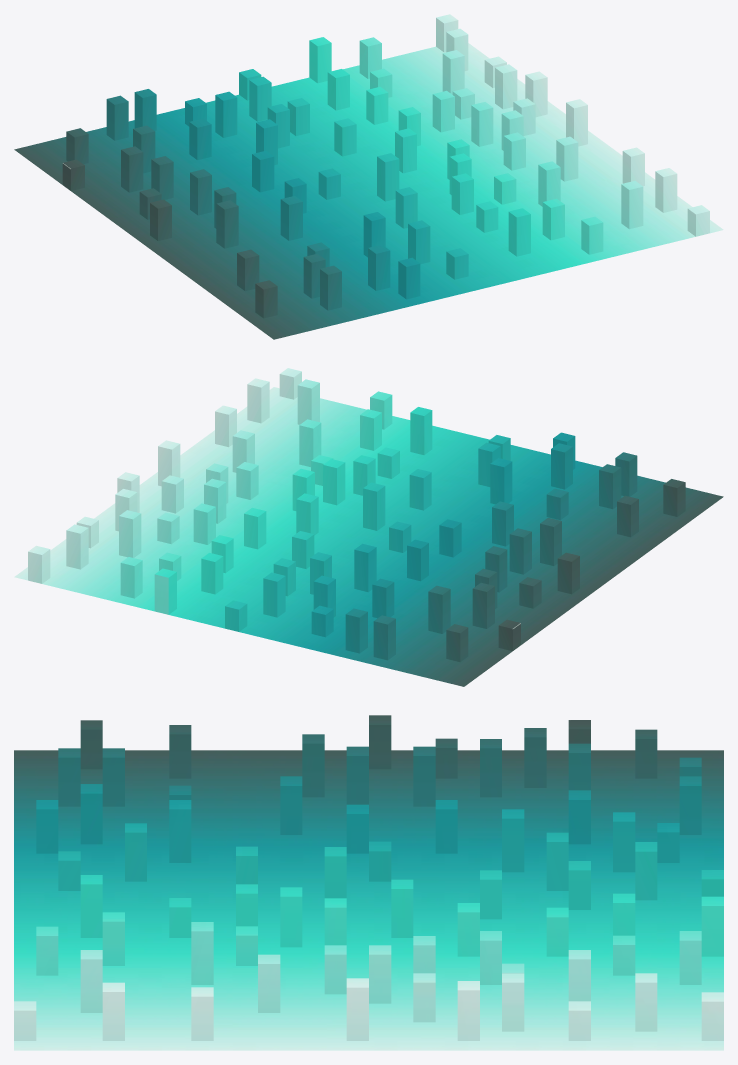
The model's file is city.glb.
The picture shows the model from 3 angles, top to bottom: view 1: azimuth 30°, elevation 25°; view 2: azimuth 150°, elevation 25°; view 3: azimuth 270°, elevation 25°; orthographic projection. The views are drawn at different scales.
Visible parts, largest first — view 1: Plane_0; view 2: Plane_0; view 3: Plane_0.
Boxes of the visible parts, x1,y1,x2,y2 form: Plane_0: (14, 14, 723, 339); Plane_0: (14, 368, 723, 686); Plane_0: (14, 715, 723, 1050).
Bounding box in the file's own units: 15.8 × 1.32 × 15.8.
Materials: 1 (1 with a texture image).
